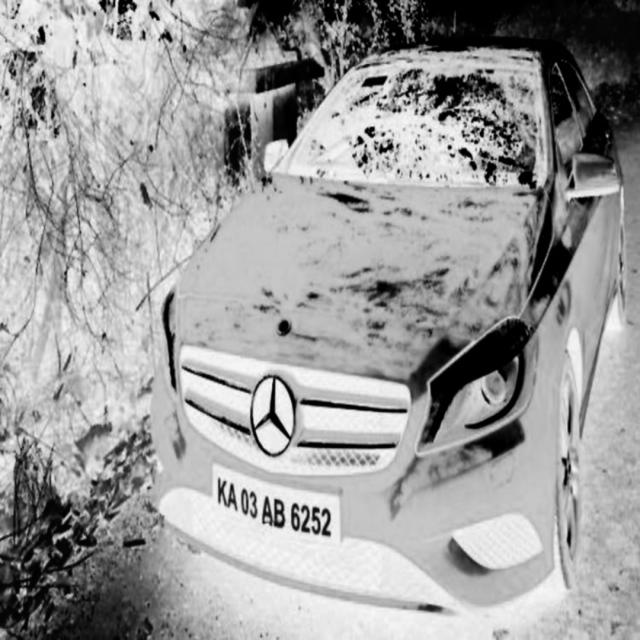Non_registered: (210, 462, 340, 545)
